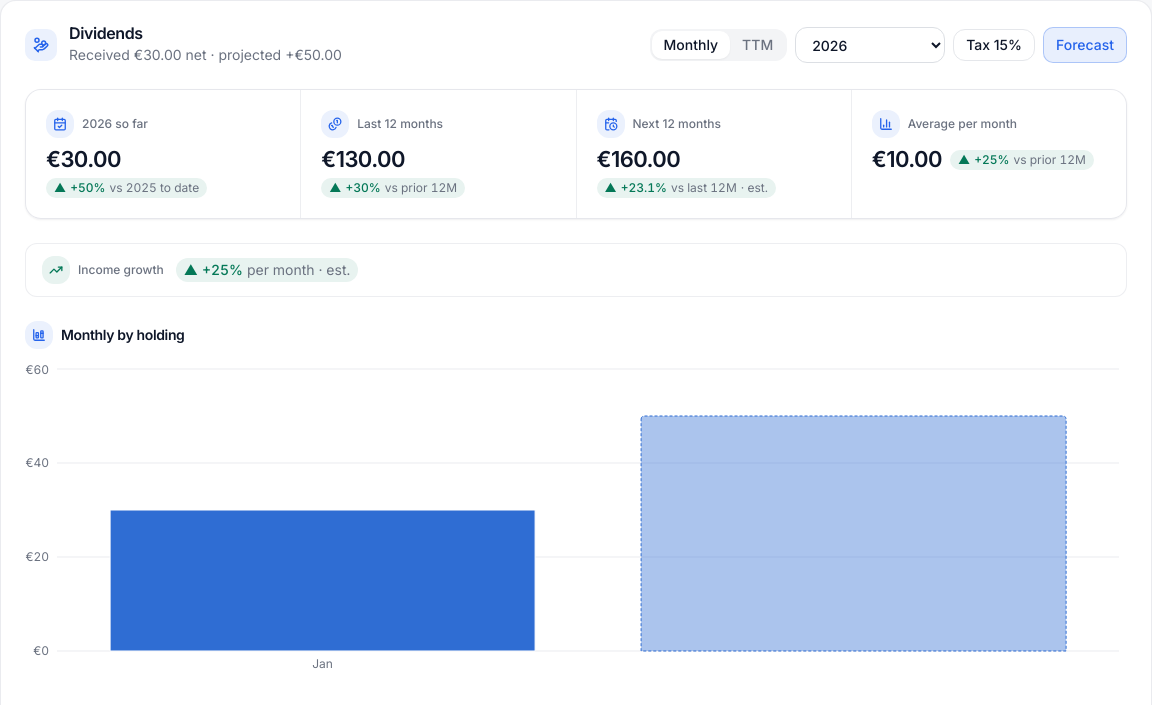
Test: Dividend chart controls › switches chart modes and forecasts without refetching or moving a closed window
Check: the text "Received €30.00 net · projected +€50.00" is shown, box [69,46,342,63]
Click the button "TTM": (758, 45) [730,31,785,59]
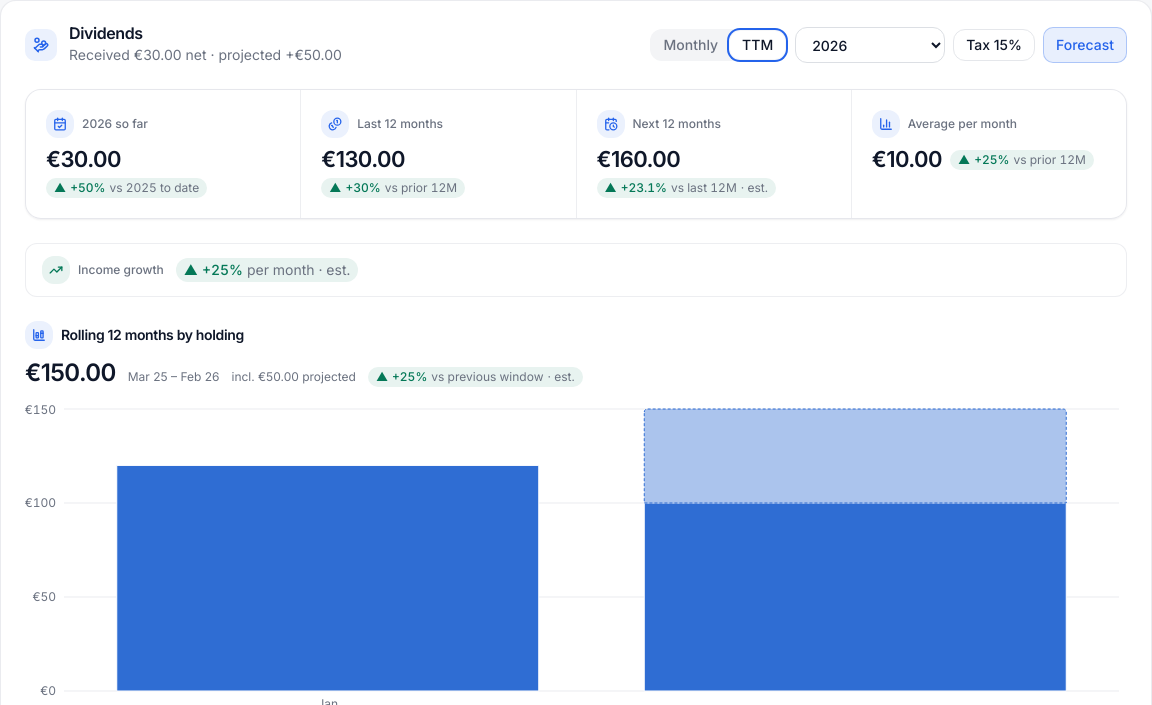
Check: the element named "Latest rolling 12 months" shows "150.00", box [25,358,116,386]
Check: the element named "Latest rolling 12 months" shows "Mar 25 – Feb 26", box [128,368,220,384]
Check: the element named "Latest rolling 12 months" shows "incl. €50.00 projected", box [232,368,356,384]
Click the button with aria-label "Toggle forecast overlay": (1085, 45) [1043,27,1127,63]
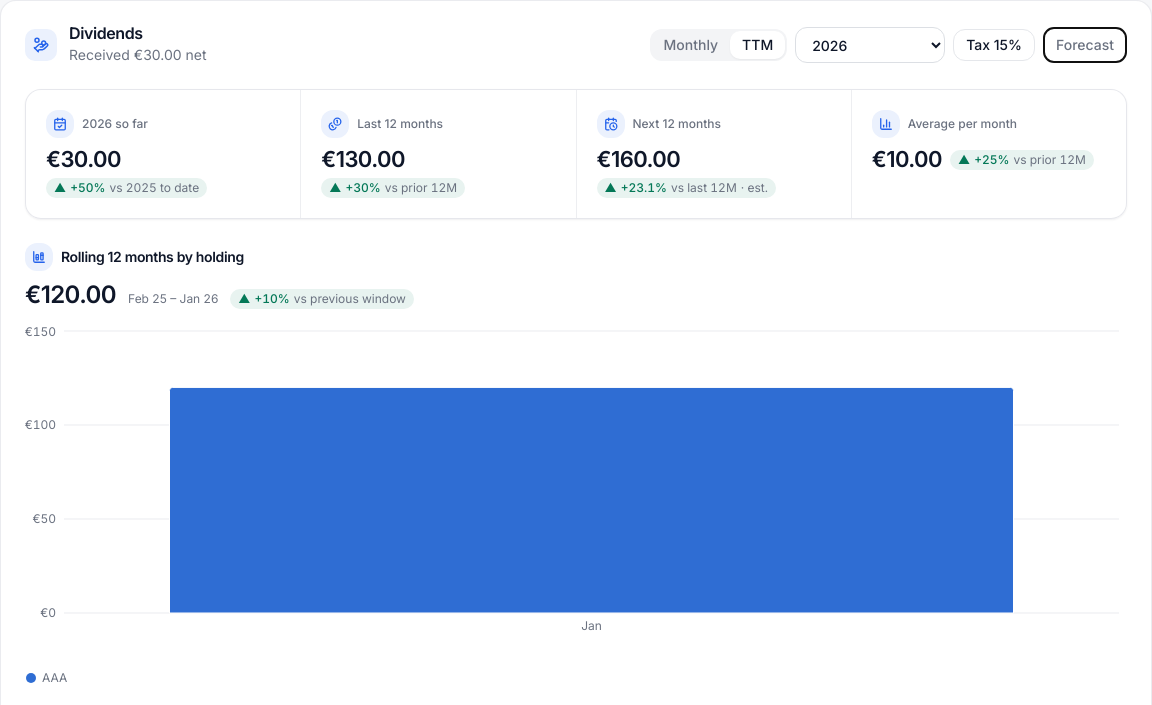
Check: the element named "Latest rolling 12 months" shows "120.00", box [25,280,116,308]
Check: the element named "Latest rolling 12 months" shows "Feb 25 – Jan 26", box [128,290,218,306]
Check: the element named "Latest rolling 12 months" shows "+10%", box [254,290,290,306]
